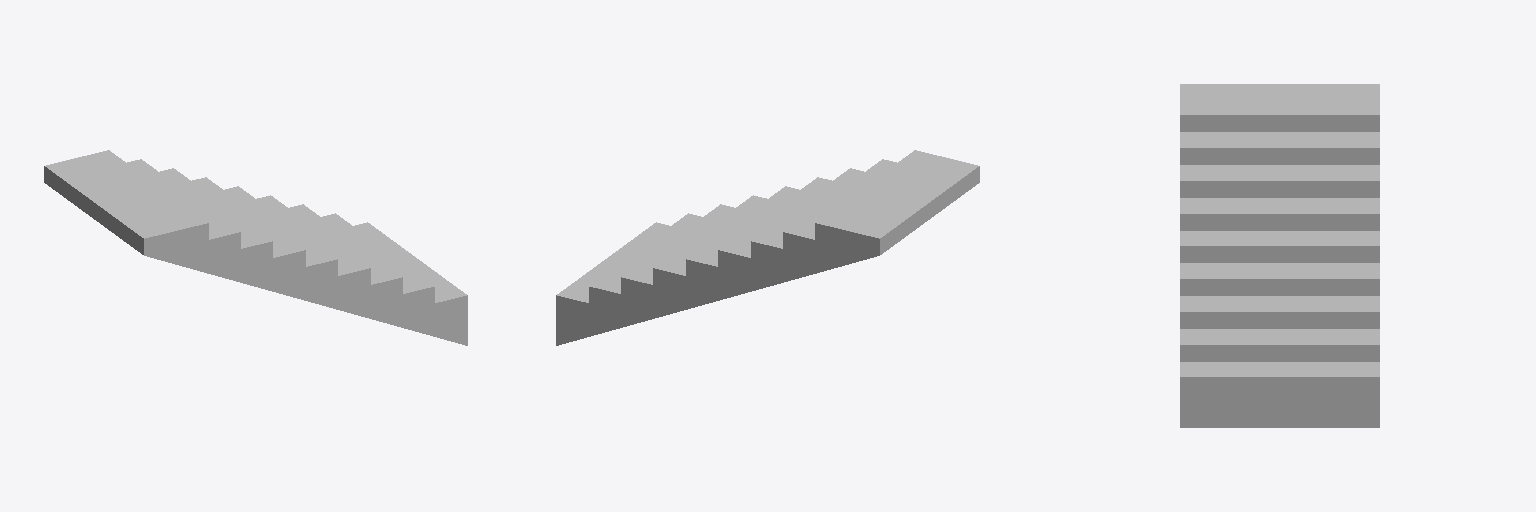
The model's file is Stairs (34).obj.
3 renders of one model, left to right at view 1: azimuth 30°, elevation 25°; view 2: azimuth 150°, elevation 25°; view 3: azimuth 270°, elevation 25°, orthographic.
Visible parts, largest first — view 1: Stairs (34); view 2: Stairs (34); view 3: Stairs (34).
Part boxes in pixels (left/top/right/bottom): Stairs (34): left=44, top=150, right=467, bottom=345; Stairs (34): left=556, top=150, right=979, bottom=345; Stairs (34): left=1180, top=84, right=1379, bottom=427.
Size of the model in its own units: 5 by 2.75 by 2.67.